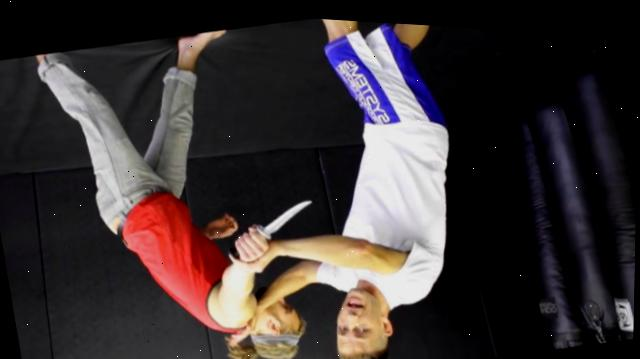long knife: (220, 185, 325, 267)
